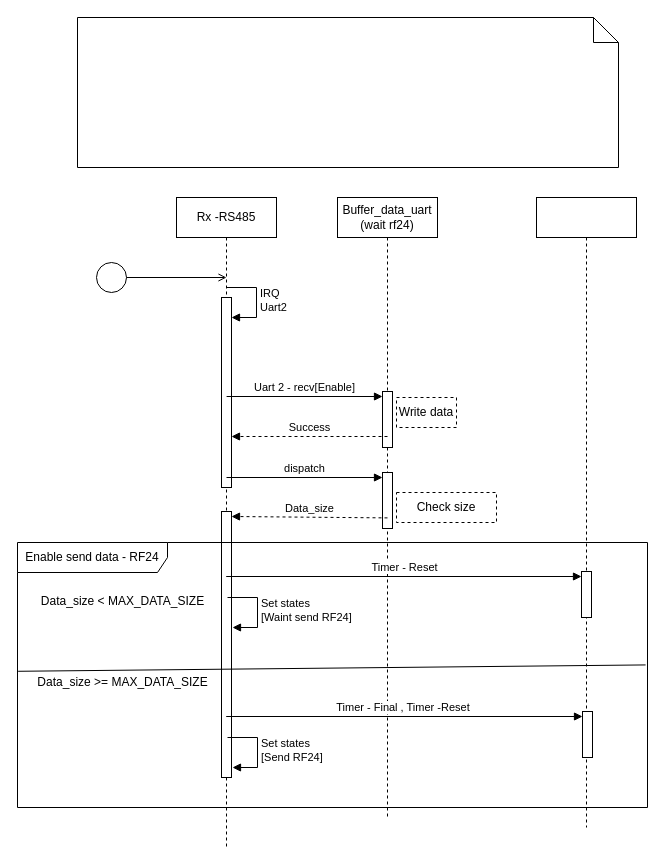
Image size: 665x865. Some labels were removed from this diagram. The box of each missing label's shape, as (x1, y1, x2, y2) in pixels:
Receive RS485:: (76, 16, 618, 168)
TImer: (536, 196, 636, 828)
